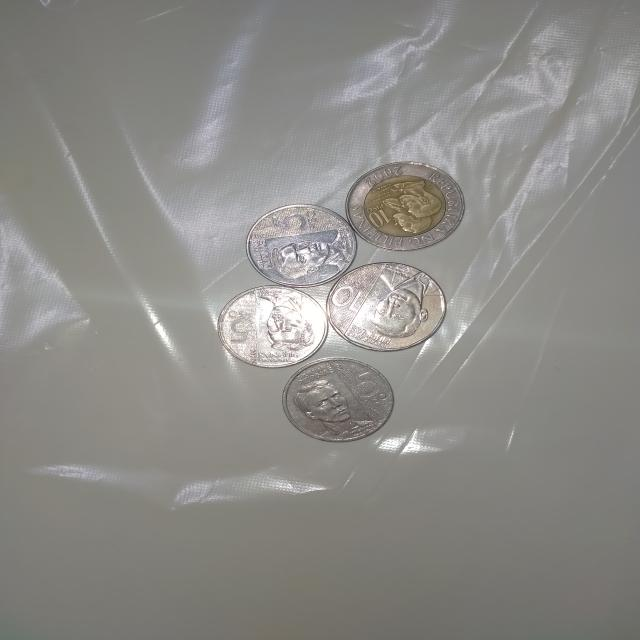10_New_Front: (335, 270, 433, 343)
10_Old_Front: (358, 162, 460, 246)
